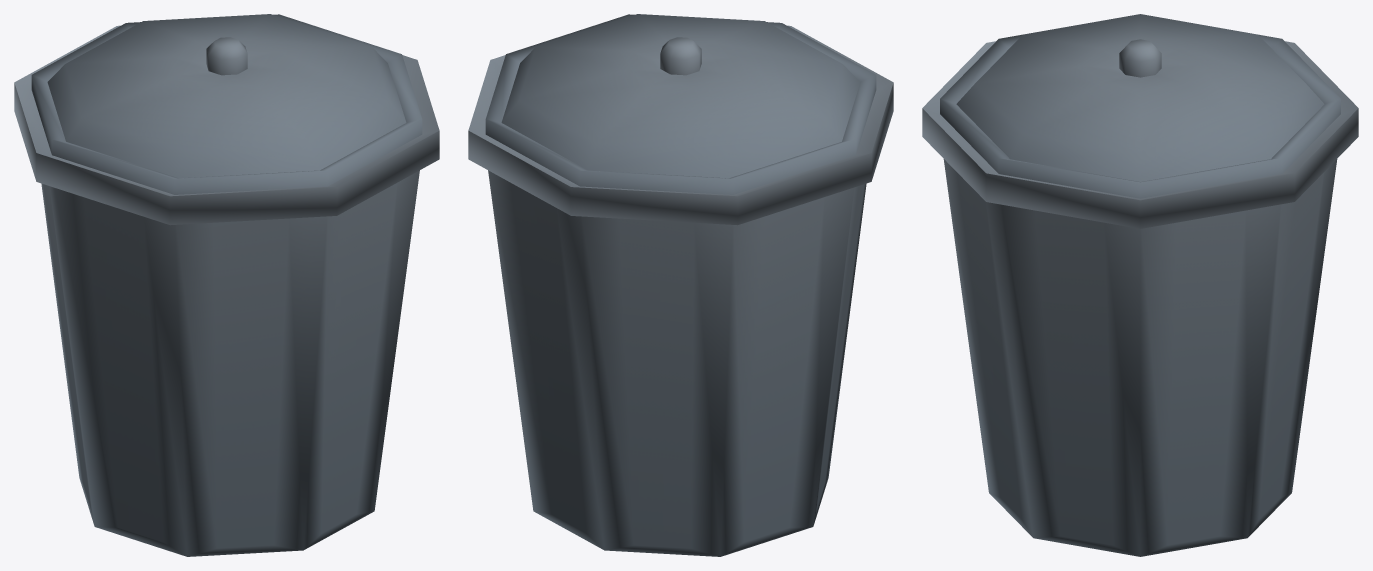
File: village_road_2.fbx
3 renders of one model, left to right at view 1: azimuth 30°, elevation 25°; view 2: azimuth 150°, elevation 25°; view 3: azimuth 270°, elevation 25°, orthographic.
Parts seen in each view (by area): view 1: trashcan.001; view 2: trashcan.001; view 3: trashcan.001.
Boxes of the visible parts, x1,y1,x2,y2 form: trashcan.001: (14, 14, 439, 556); trashcan.001: (468, 14, 893, 556); trashcan.001: (922, 14, 1358, 556).
Size of what is drawn, in the model's own units: 0.6996 by 0.7926 by 0.6996.
1 material, 1 textured.
